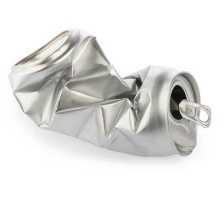can: (3, 25, 217, 160)
